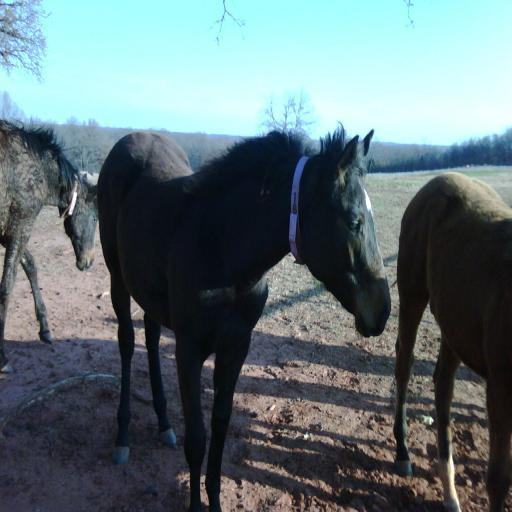horse: (97, 120, 392, 511), (390, 170, 512, 512), (0, 114, 99, 374)
